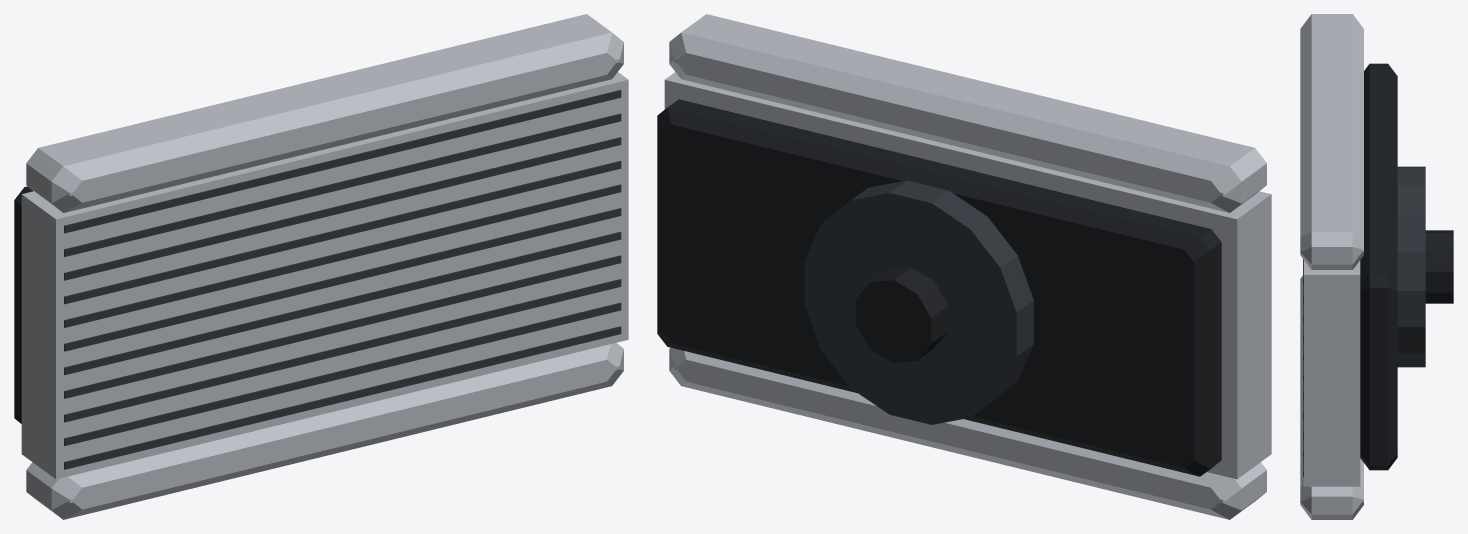
Rendered from brute_500.glb.
The picture shows the model from 3 angles, left to right: view 1: azimuth 30°, elevation 25°; view 2: azimuth 150°, elevation 25°; view 3: azimuth 270°, elevation 25°; orthographic projection. The views are drawn at different scales.
Visible parts, largest first — view 1: model; view 2: model; view 3: model.
Part boxes in pixels (x1,y1,x2,y2): model: (14,14,628,519); model: (657,14,1271,519); model: (1300,14,1453,519).
Bounding box in the file's own units: 0.576 × 0.34 × 0.164.
1 material, 1 textured.
